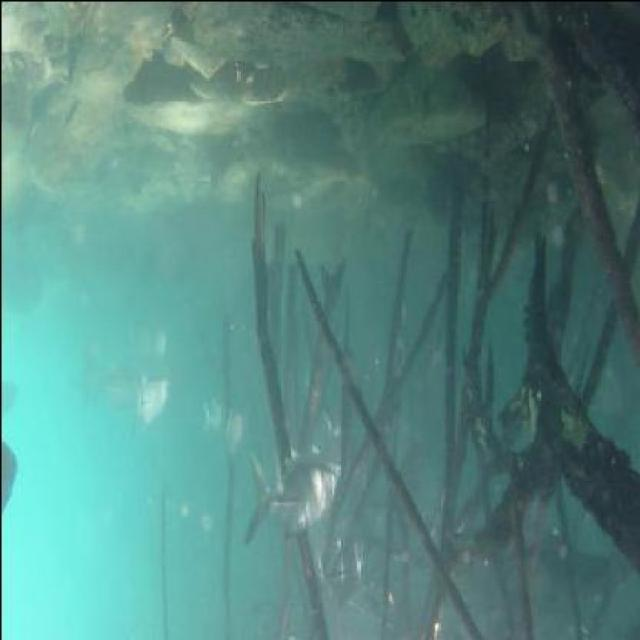Caranx_sexfasciatus_juvenile: (238, 449, 334, 546), (73, 346, 138, 423), (308, 541, 369, 617), (207, 394, 255, 458), (133, 364, 169, 436), (136, 300, 175, 362), (0, 424, 25, 519), (0, 372, 25, 422)
